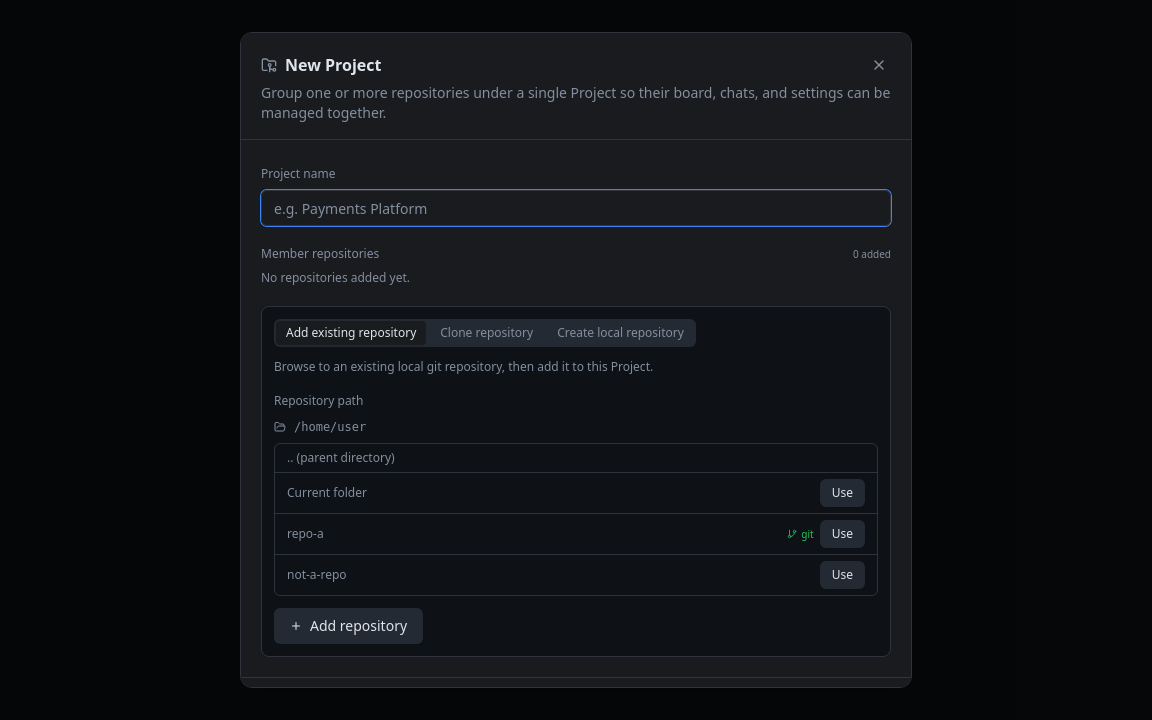
Test case: CreateProjectDialog › does not compensate an existing repository path when project creation fails
Step 1. Click the 2nd button "Use" → (842, 534), box [820,520,865,548]
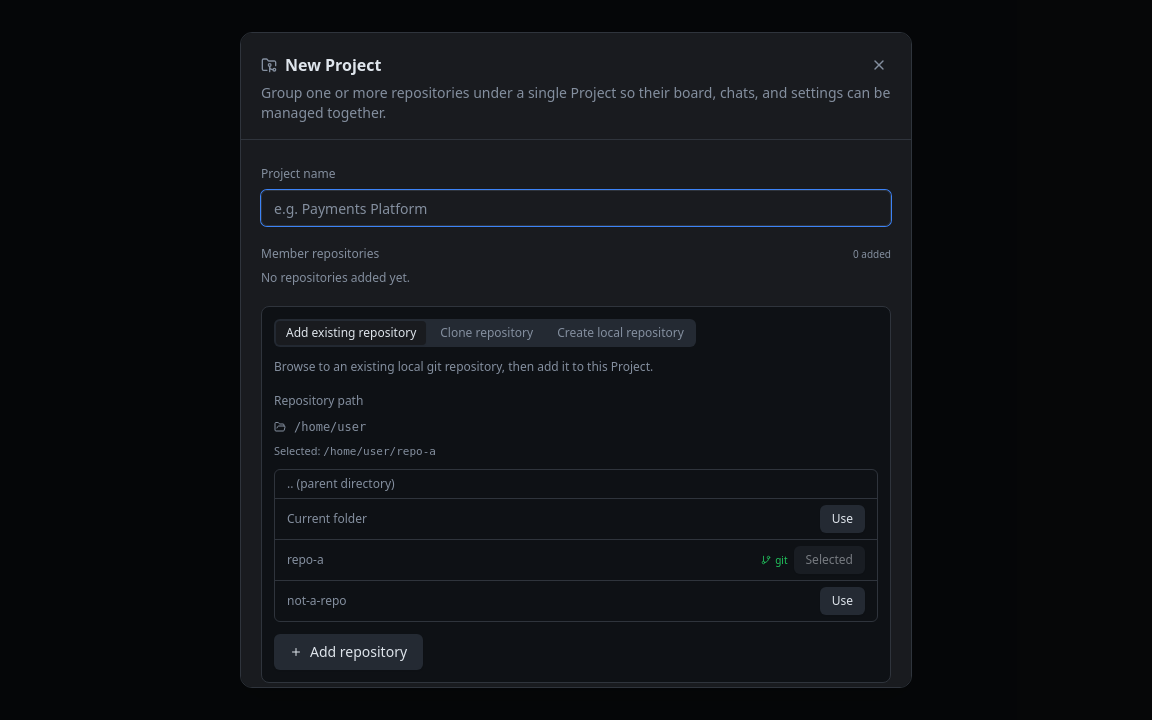
Step 2. Click the button "Add repository" → (349, 652), box [274,634,423,670]
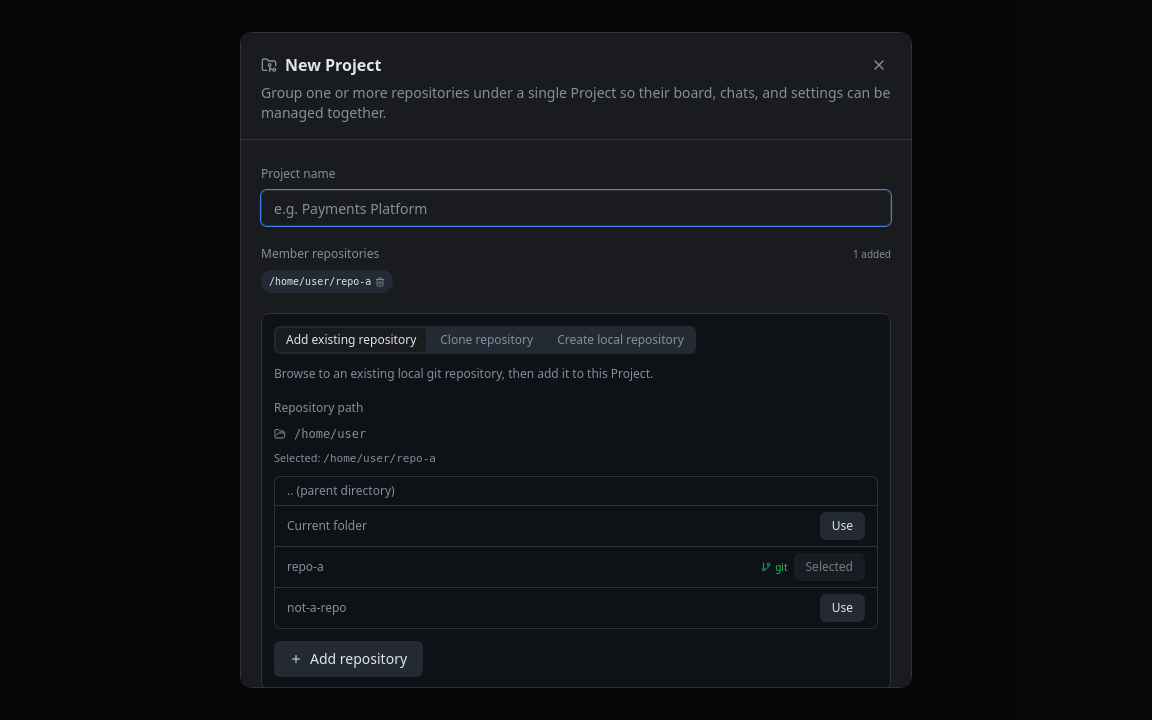
Step 3. Type "My Project" into the field labelled "Project name" → (576, 208), box [261,190,891,226]
(page scrolled)
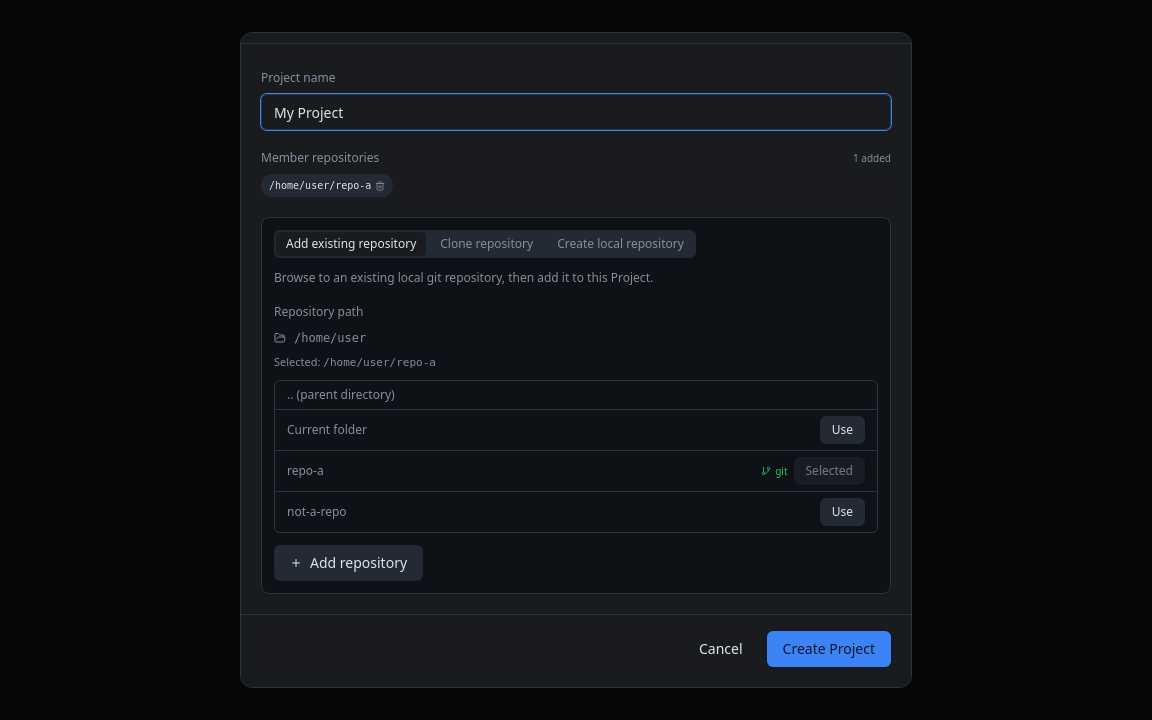
Step 4. Click the button "Create Project" → (829, 648), box [767,630,891,666]
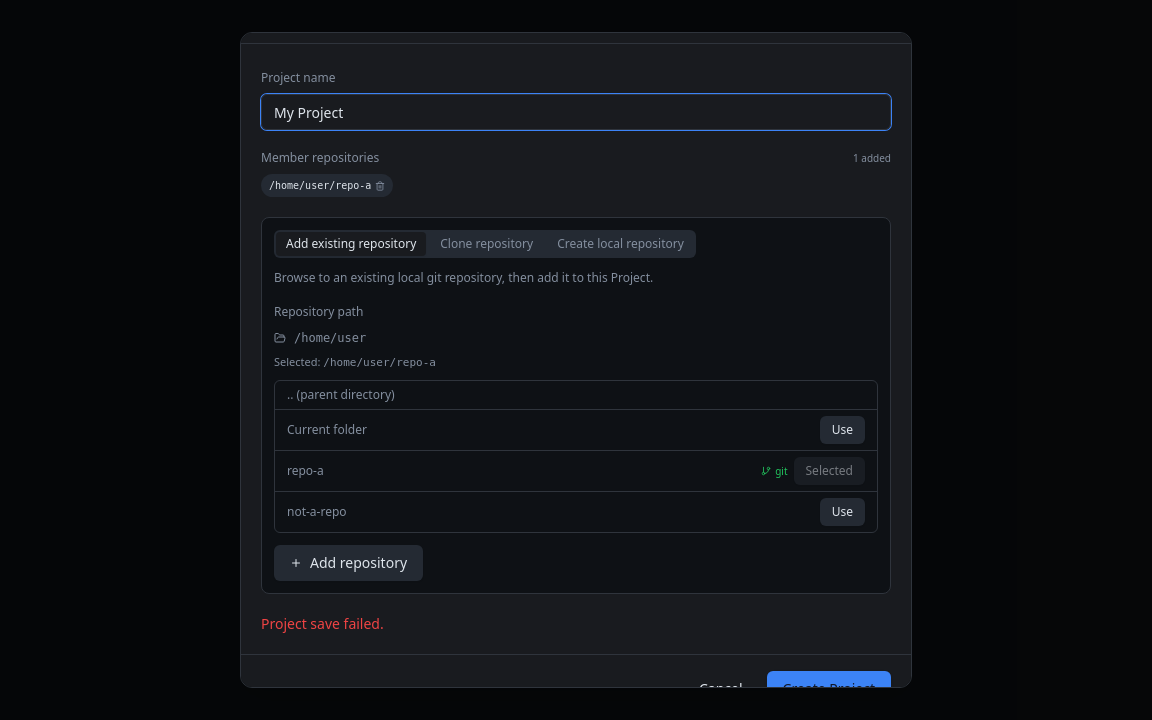
Now the text "Project save failed." is shown, box [261,614,384,632]
